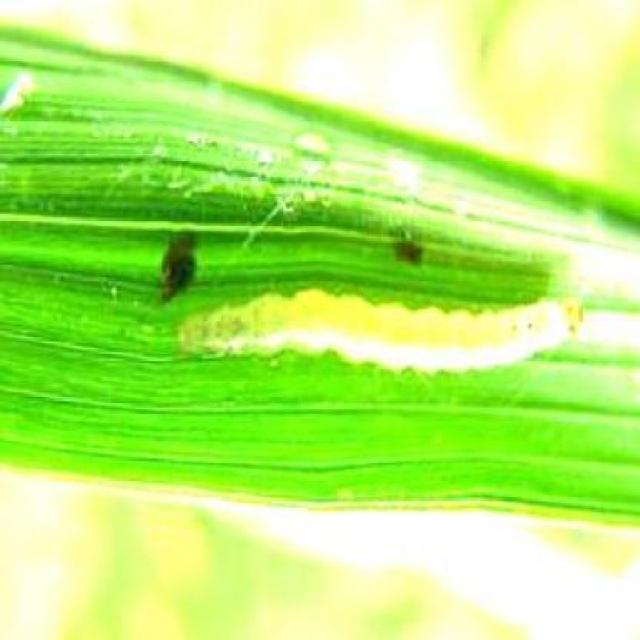leaf-folder: (138, 233, 600, 418)
